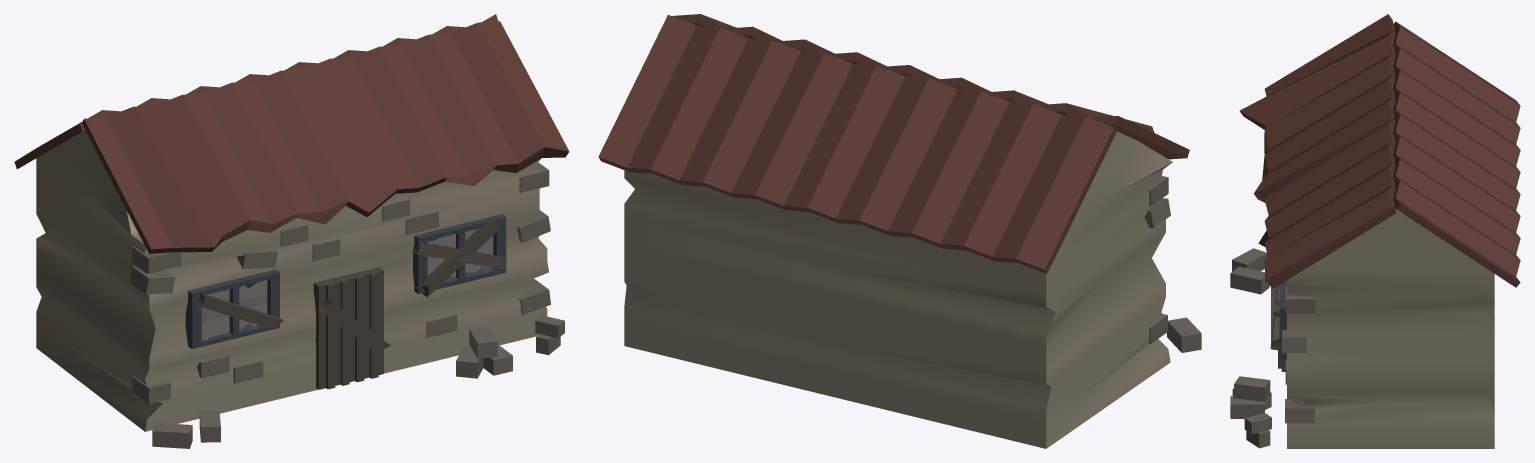
File: WIDE HOUSE DAMAGED red roof.fbx
3 views of the same model, side by side, from view 1: azimuth 30°, elevation 25°; view 2: azimuth 150°, elevation 25°; view 3: azimuth 270°, elevation 25° (orthographic). The views are drawn at different scales.
Parts seen in each view (by area): view 1: pCube1, pCube2, pCube4, pCube5, pCube6, pCube3, pCube36, pCube35, pCube37, pCube34, pCube27, pCube11 (+14 smaller); view 2: pCube1, pCube3, pCube2, pCube27; view 3: pCube1, pCube2, pCube3, pCube28, pCube30, pCube31, pCube12, pCube16, pCube27, pCube14, pCube6, pCube33 (+2 smaller).
Part boxes in pixels (left/top/right/bottom): pCube1: left=36, top=130, right=548, bottom=431; pCube2: left=82, top=21, right=569, bottom=253; pCube4: left=313, top=267, right=383, bottom=389; pCube5: left=185, top=269, right=279, bottom=349; pCube6: left=413, top=214, right=506, bottom=293; pCube3: left=14, top=14, right=497, bottom=169; pCube36: left=421, top=216, right=501, bottom=297; pCube35: left=196, top=293, right=283, bottom=329; pCube37: left=412, top=243, right=506, bottom=269; pCube34: left=318, top=297, right=390, bottom=353; pCube27: left=152, top=422, right=192, bottom=448; pCube11: left=129, top=266, right=175, bottom=294; pCube1: left=624, top=131, right=1172, bottom=448; pCube3: left=598, top=15, right=1116, bottom=273; pCube2: left=672, top=14, right=1189, bottom=159; pCube27: left=1167, top=317, right=1201, bottom=352; pCube1: left=1287, top=41, right=1494, bottom=448; pCube2: left=1239, top=14, right=1396, bottom=288; pCube3: left=1393, top=21, right=1520, bottom=287; pCube28: left=1230, top=266, right=1269, bottom=294; pCube30: left=1234, top=376, right=1270, bottom=401; pCube31: left=1230, top=396, right=1264, bottom=418; pCube12: left=1285, top=399, right=1314, bottom=423; pCube16: left=1285, top=286, right=1315, bottom=313; pCube27: left=1232, top=248, right=1267, bottom=271; pCube14: left=1282, top=330, right=1306, bottom=353; pCube6: left=1279, top=280, right=1286, bottom=359; pCube33: left=1244, top=413, right=1271, bottom=434.
Bounding box in the file's own units: 0.1493 × 0.0925 × 0.0965.
